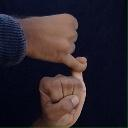hand: (0, 12, 88, 71), (37, 57, 87, 127)
